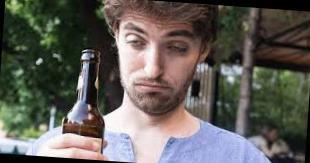Drunk: (119, 9, 195, 112)
